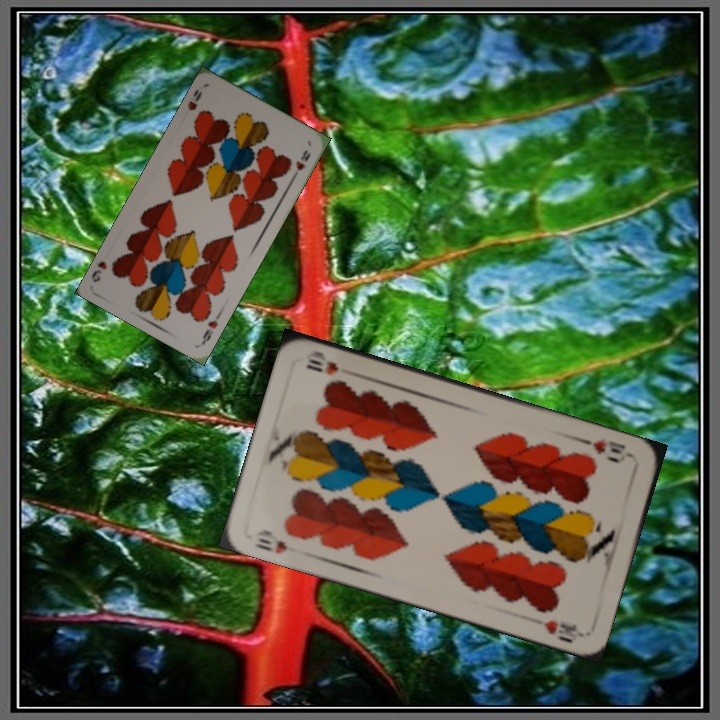H10: (579, 434, 637, 466), (250, 525, 291, 557)
H9: (198, 309, 223, 347), (183, 85, 205, 113)
